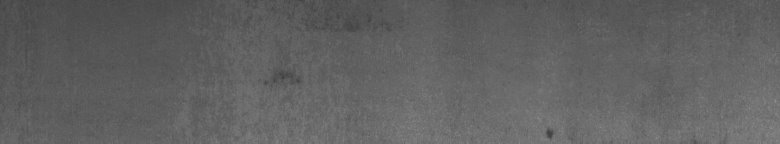fi: (541, 128, 555, 136)
